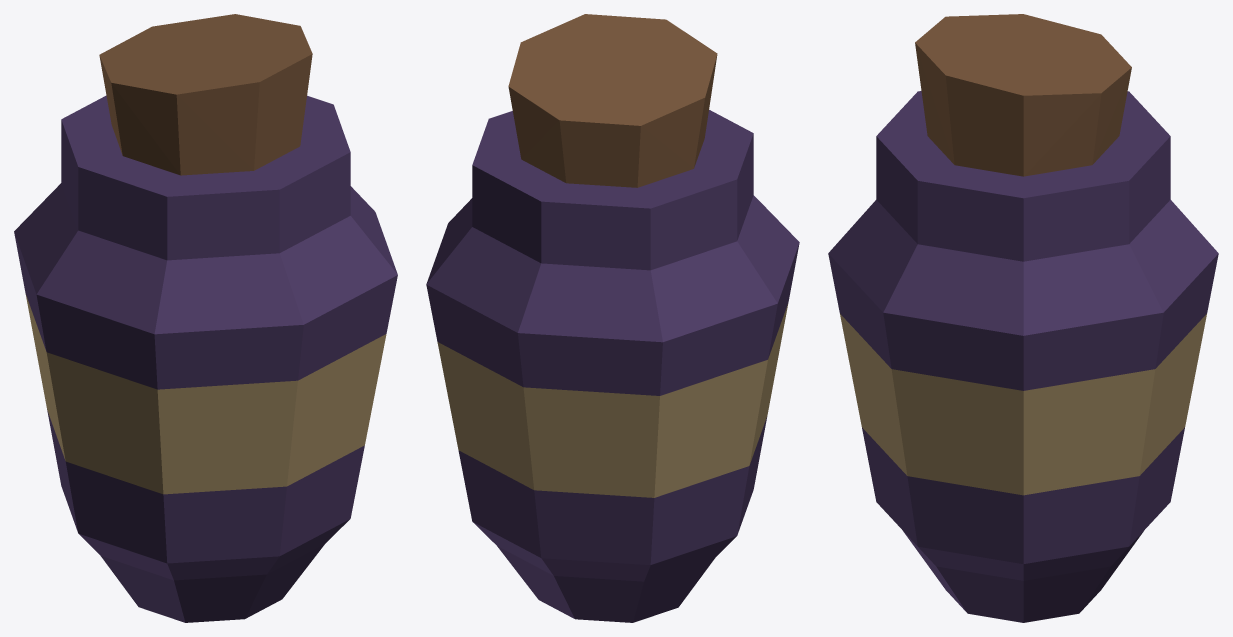
File: potion_b.glb
The picture shows the model from 3 angles, left to right: view 1: azimuth 30°, elevation 25°; view 2: azimuth 150°, elevation 25°; view 3: azimuth 270°, elevation 25°; orthographic projection. The views are drawn at different scales.
Visible parts, largest first — view 1: SM_Item_Potion_02; view 2: SM_Item_Potion_02; view 3: SM_Item_Potion_02.
Boxes of the visible parts, x1=… form: SM_Item_Potion_02: x1=14, y1=14, x2=397, y2=622; SM_Item_Potion_02: x1=426, y1=14, x2=799, y2=622; SM_Item_Potion_02: x1=828, y1=14, x2=1218, y2=622.
Bounding box in the file's own units: 14.35 × 22.21 × 14.35.
Materials: 1 (1 with a texture image).
